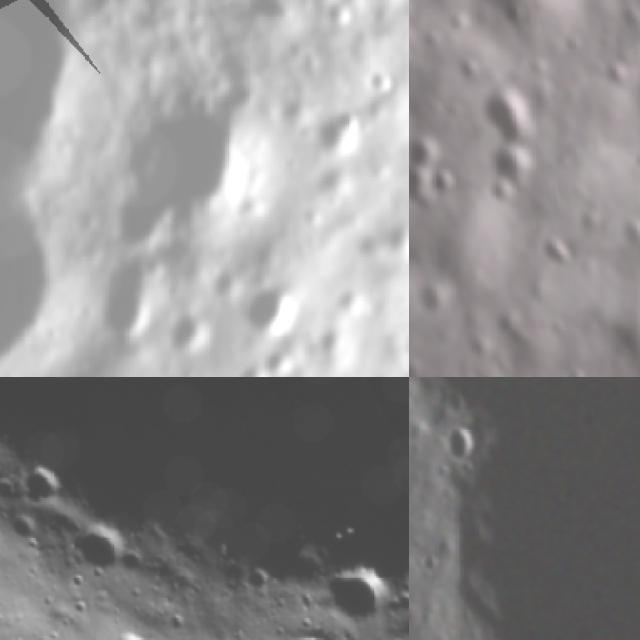crater: (422, 377, 640, 640), (321, 561, 392, 628), (56, 523, 133, 584), (11, 458, 72, 518), (484, 94, 535, 146), (412, 278, 463, 329), (490, 145, 536, 199), (436, 423, 479, 470), (536, 230, 574, 276), (178, 312, 215, 358), (488, 0, 537, 34), (263, 286, 307, 321), (409, 133, 444, 177), (613, 215, 640, 255), (455, 52, 484, 88), (431, 165, 457, 202), (326, 0, 355, 31), (367, 71, 398, 100), (272, 348, 310, 371), (103, 624, 150, 640), (231, 367, 262, 377)
